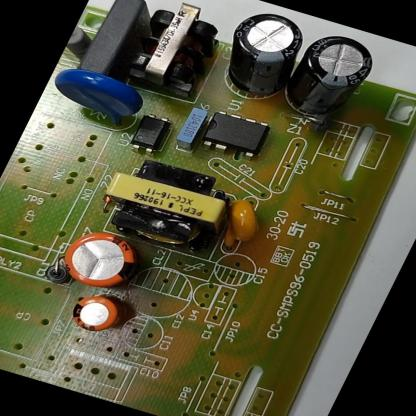Cap1: (48, 222, 146, 297)
Cap2: (61, 287, 127, 340)
Cap3: (204, 0, 316, 101)
Cap4: (270, 23, 388, 133)
MOSFET: (189, 103, 279, 169)
Mov: (38, 60, 151, 130)
Resistor: (63, 13, 98, 58)
Transformer: (86, 146, 252, 267), (106, 0, 236, 111)
